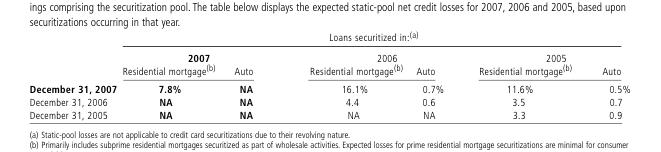table: (28, 28, 629, 120)
table column: (280, 28, 408, 120), (460, 28, 586, 120), (118, 28, 224, 120), (28, 28, 118, 120), (224, 28, 280, 120), (408, 28, 460, 120), (586, 28, 629, 120)
table column header: (28, 28, 629, 79)
table row: (28, 46, 629, 79), (28, 28, 629, 46), (28, 79, 629, 94), (28, 94, 629, 108), (28, 108, 629, 120)
table spanning cell: (118, 28, 629, 46)
